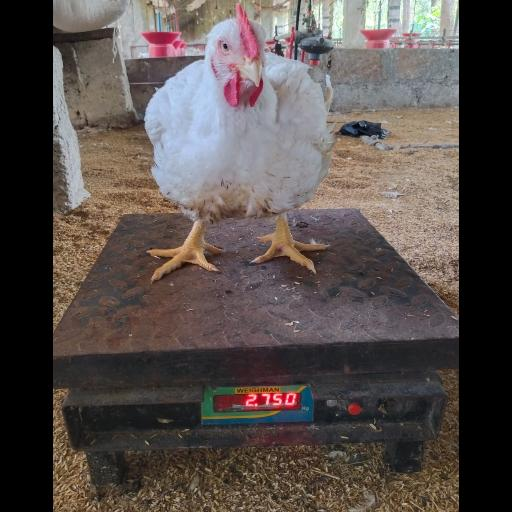chick: (144, 3, 339, 282)
